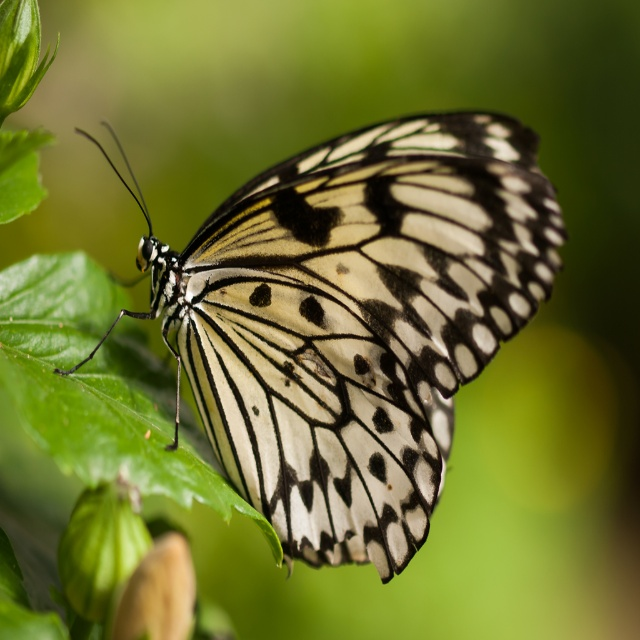Butterfly: (37, 92, 573, 595)
